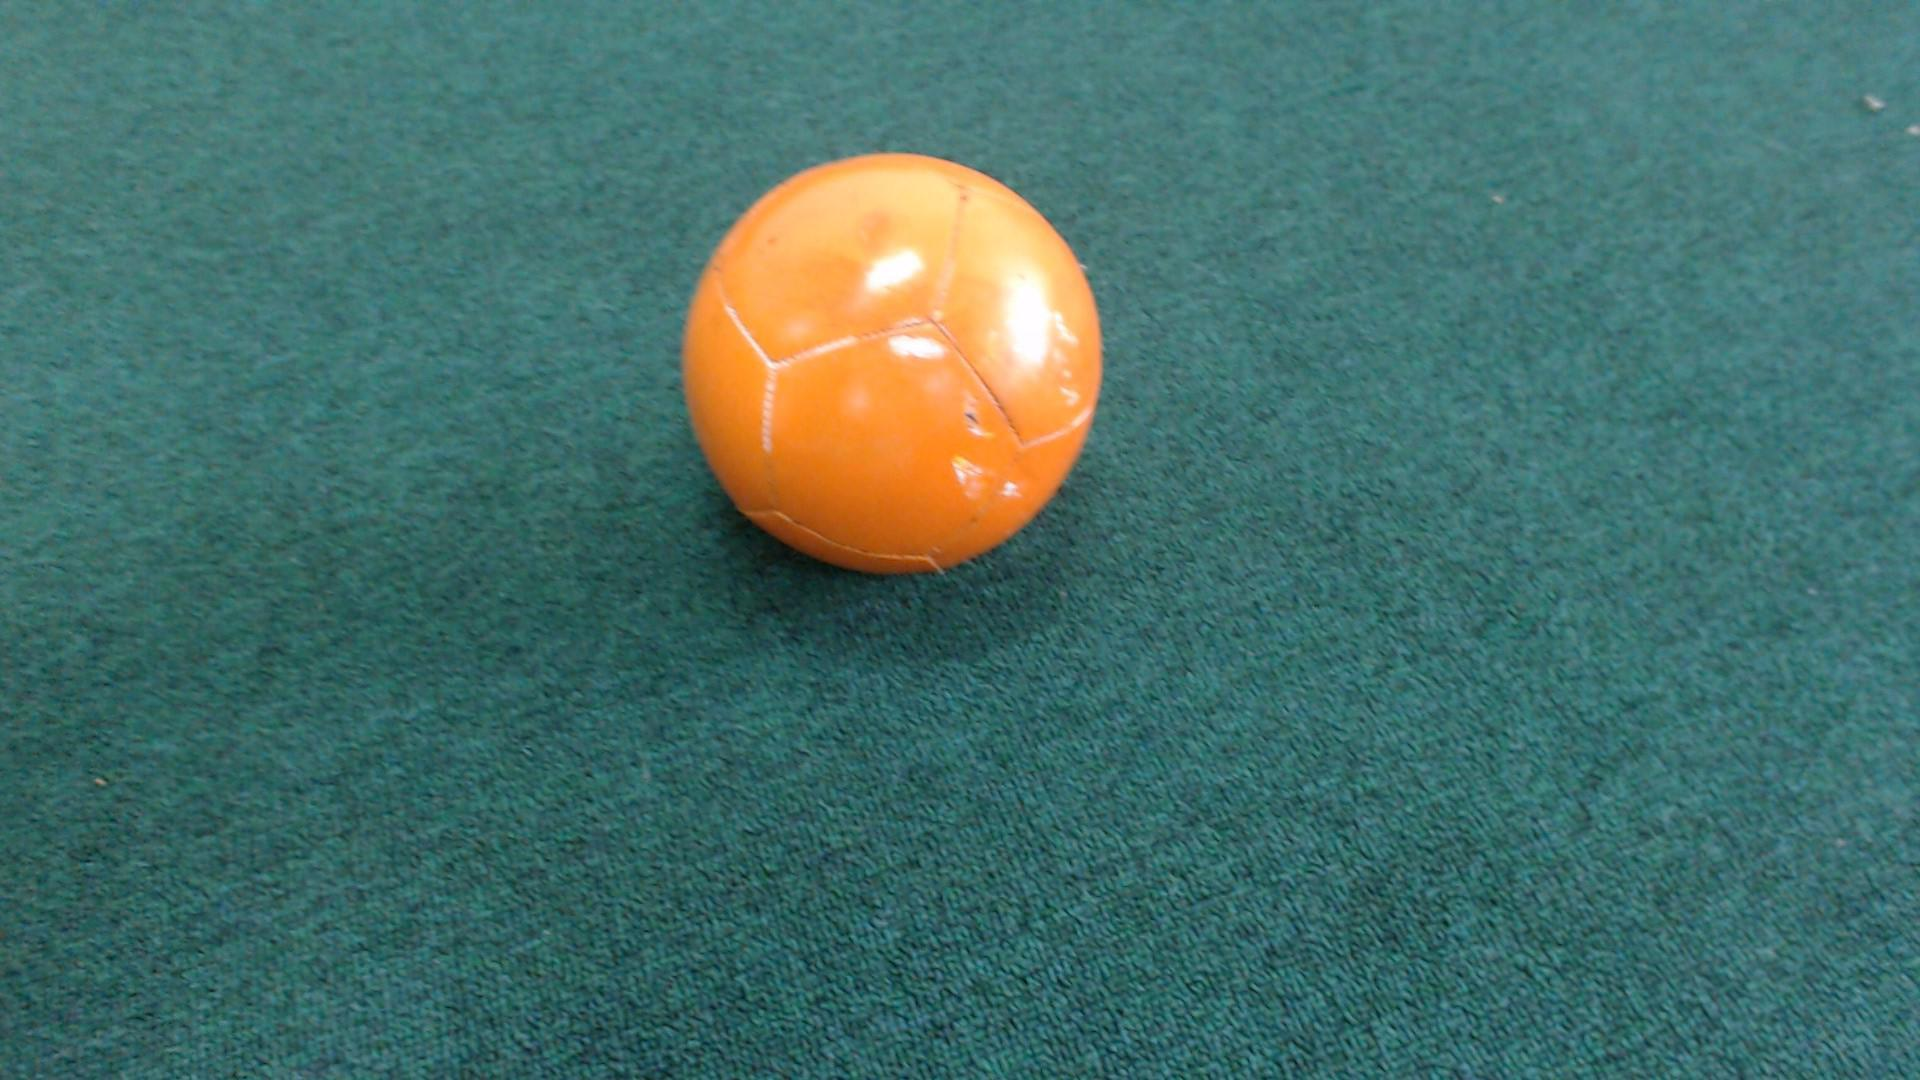bola: (634, 142, 1117, 613)
